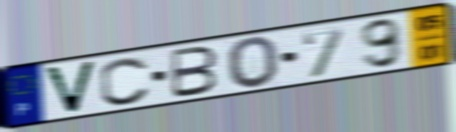7: (300, 24, 347, 80)
9: (356, 17, 405, 71)
B: (169, 44, 220, 100)
C: (98, 55, 153, 107)
O: (225, 35, 281, 92)
V: (41, 59, 100, 116)
